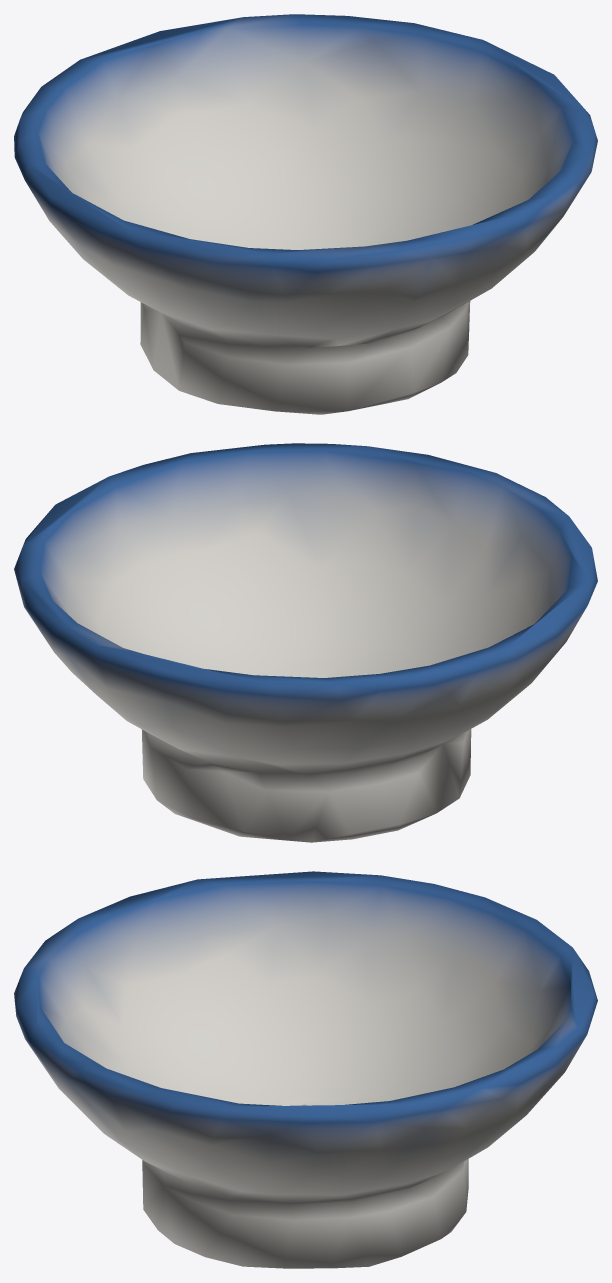
Rendered from chen_het.glb.
3 renders of one model, top to bottom at view 1: azimuth 30°, elevation 25°; view 2: azimuth 150°, elevation 25°; view 3: azimuth 270°, elevation 25°, orthographic.
Parts seen in each view (by area): view 1: chen_het; view 2: chen_het; view 3: chen_het.
Part boxes in pixels (<box>): chen_het: <box>14,14,597,414</box>; chen_het: <box>14,443,597,842</box>; chen_het: <box>14,871,597,1268</box>.
Size of the model in its own units: 0.1246 by 0.05 by 0.1243.
